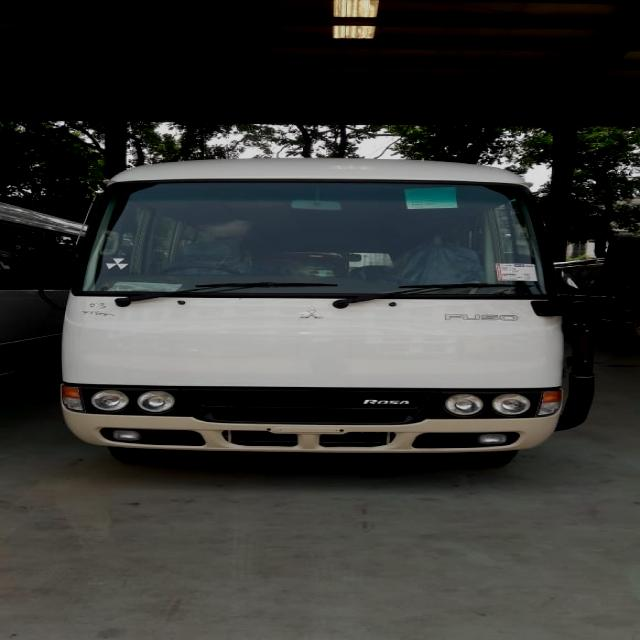bus: (35, 135, 640, 487)
